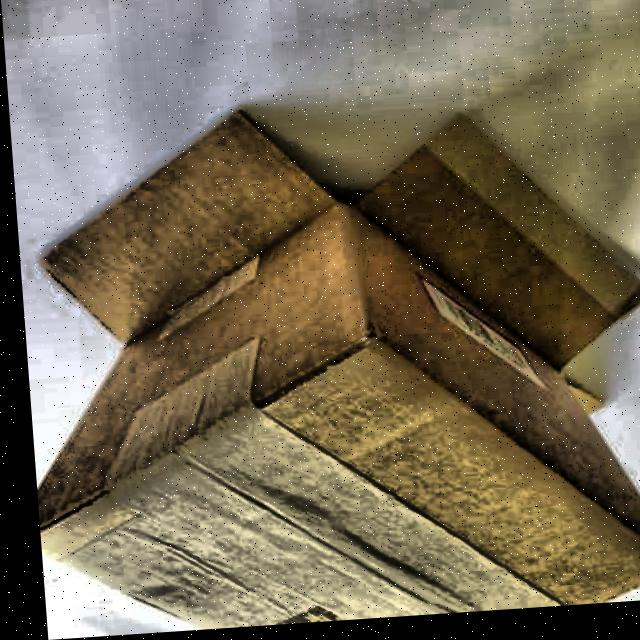cardboard: (9, 82, 640, 640)
